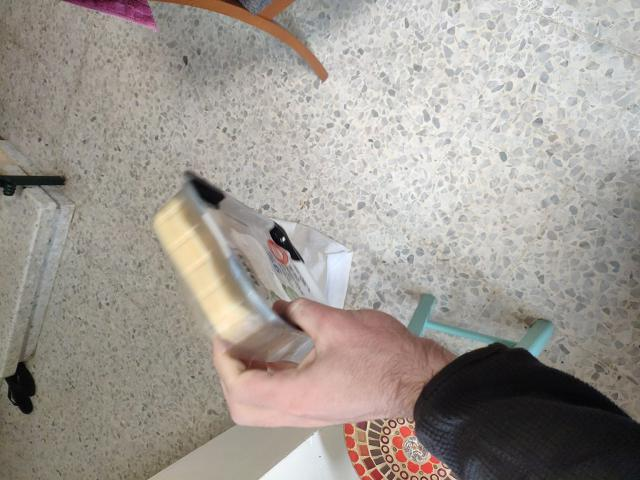cheese: (111, 132, 369, 456)
